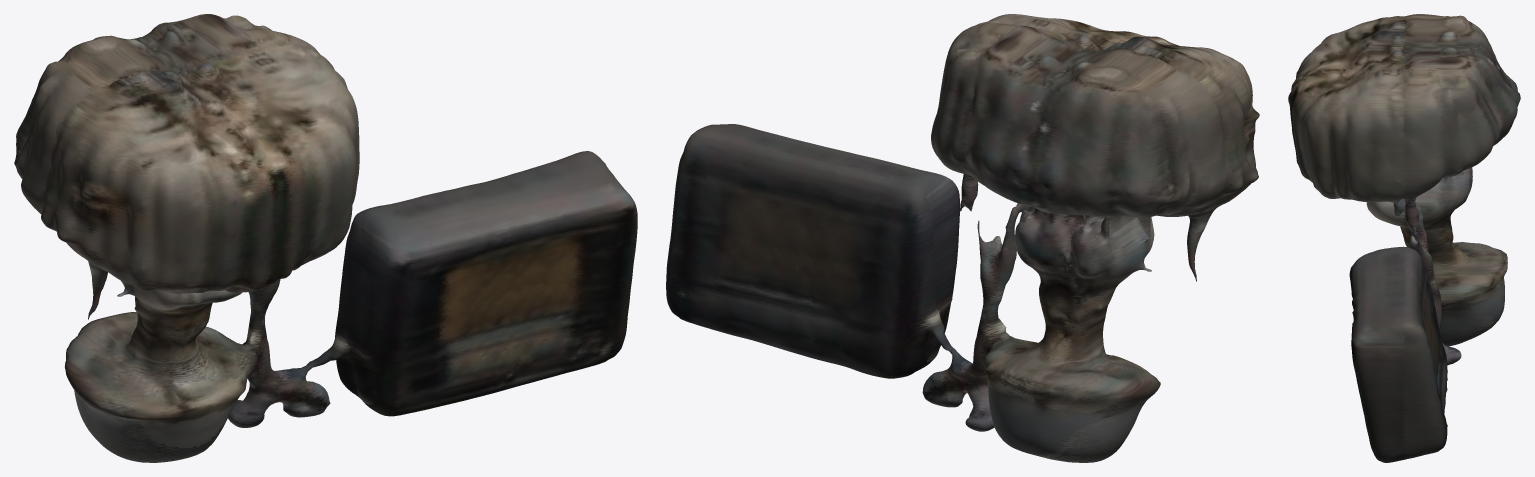
Rendered from kfl-2316.glb.
3 renders of one model, left to right at view 1: azimuth 30°, elevation 25°; view 2: azimuth 150°, elevation 25°; view 3: azimuth 270°, elevation 25°, orthographic. The views are drawn at different scales.
Parts seen in each view (by area): view 1: geometry_0; view 2: geometry_0; view 3: geometry_0.
Boxes of the visible parts, bbox=[...] form: geometry_0: bbox=[14, 14, 637, 462]; geometry_0: bbox=[666, 14, 1259, 462]; geometry_0: bbox=[1288, 14, 1520, 462].
Bounding box in the file's own units: 0.9923 × 0.6888 × 0.4855.
Materials: 1 (1 with a texture image).
